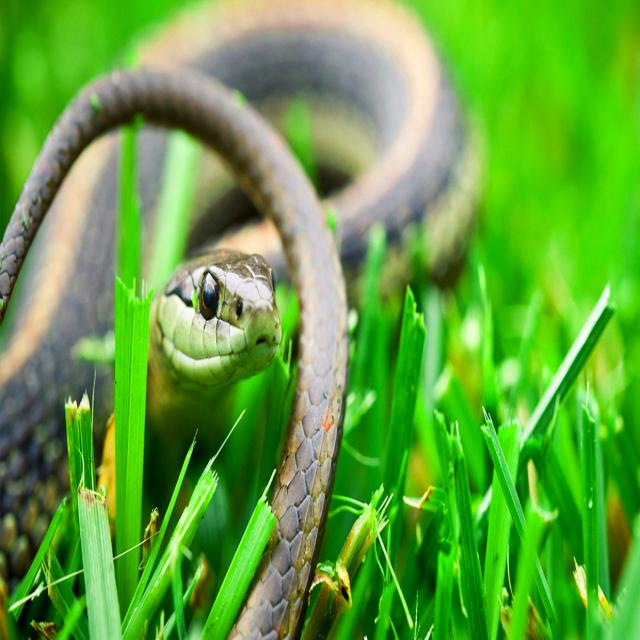snake: (1, 0, 476, 639)
